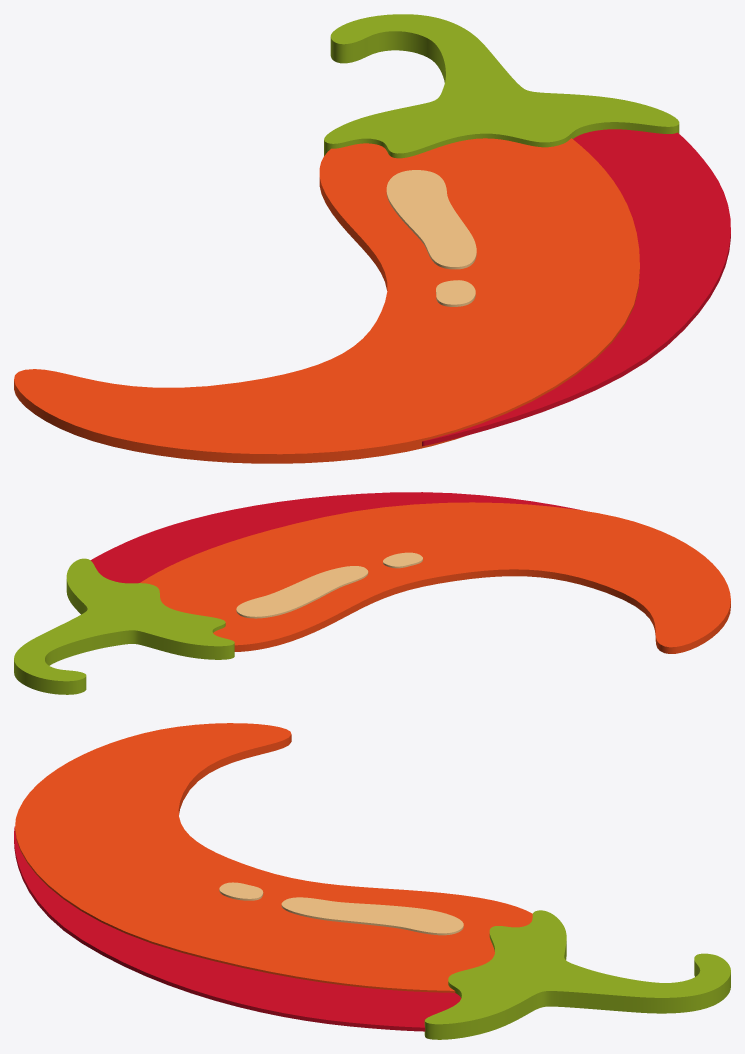
The model's file is emoji_u1f336.glb.
3 views of the same model, one above another, from view 1: azimuth 30°, elevation 25°; view 2: azimuth 150°, elevation 25°; view 3: azimuth 270°, elevation 25° (orthographic). The views are drawn at different scales.
Visible parts, largest first — view 1: emoji_u1f336; view 2: emoji_u1f336; view 3: emoji_u1f336.
Boxes of the visible parts, x1,y1,x2,y2 form: emoji_u1f336: (14, 14, 730, 463); emoji_u1f336: (14, 492, 730, 694); emoji_u1f336: (14, 723, 730, 1039).
Bounding box in the file's own units: 0.0335 × 0.0008 × 0.0333.
